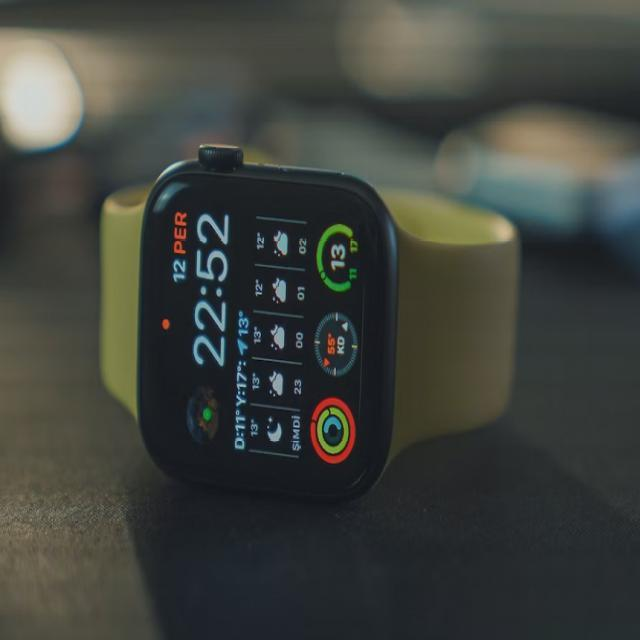Watch: (98, 132, 518, 496)
